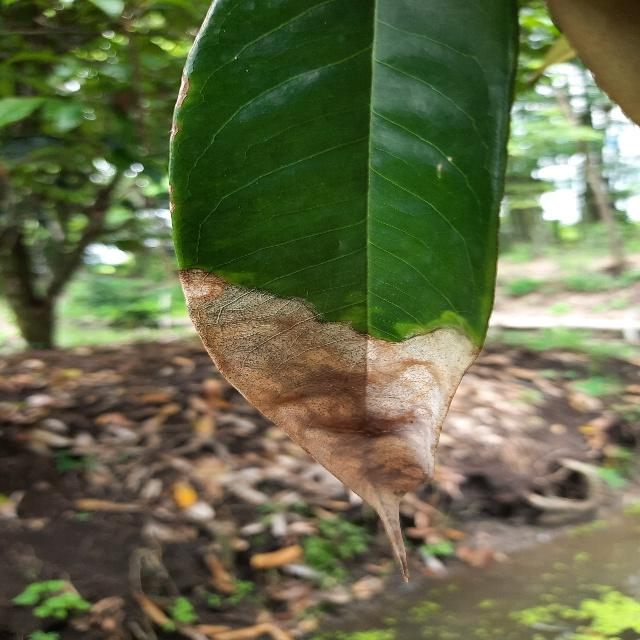Leaf Blight: (161, 0, 527, 591)
